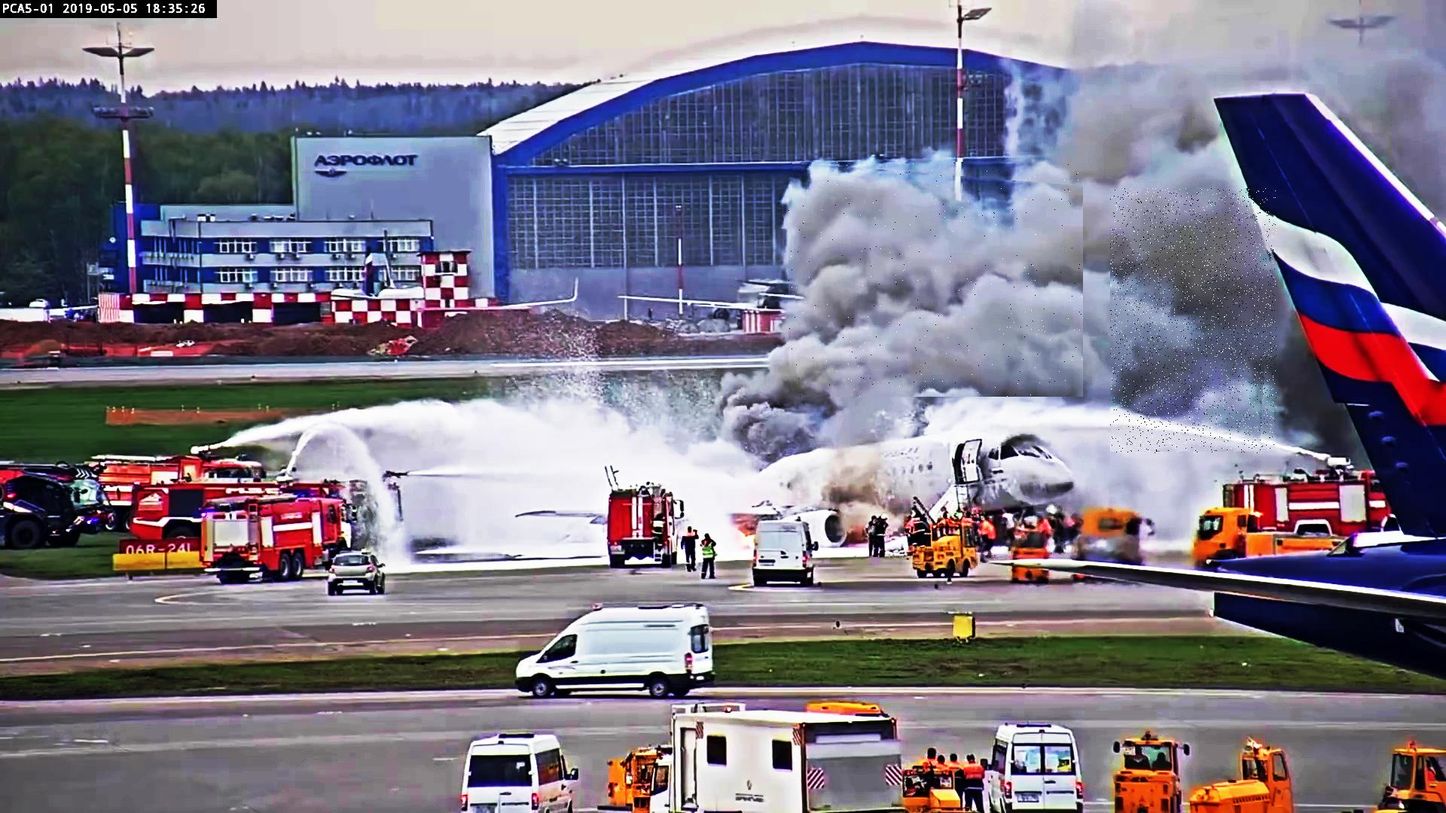smoke: (789, 162, 1085, 397), (1111, 189, 1277, 454)
